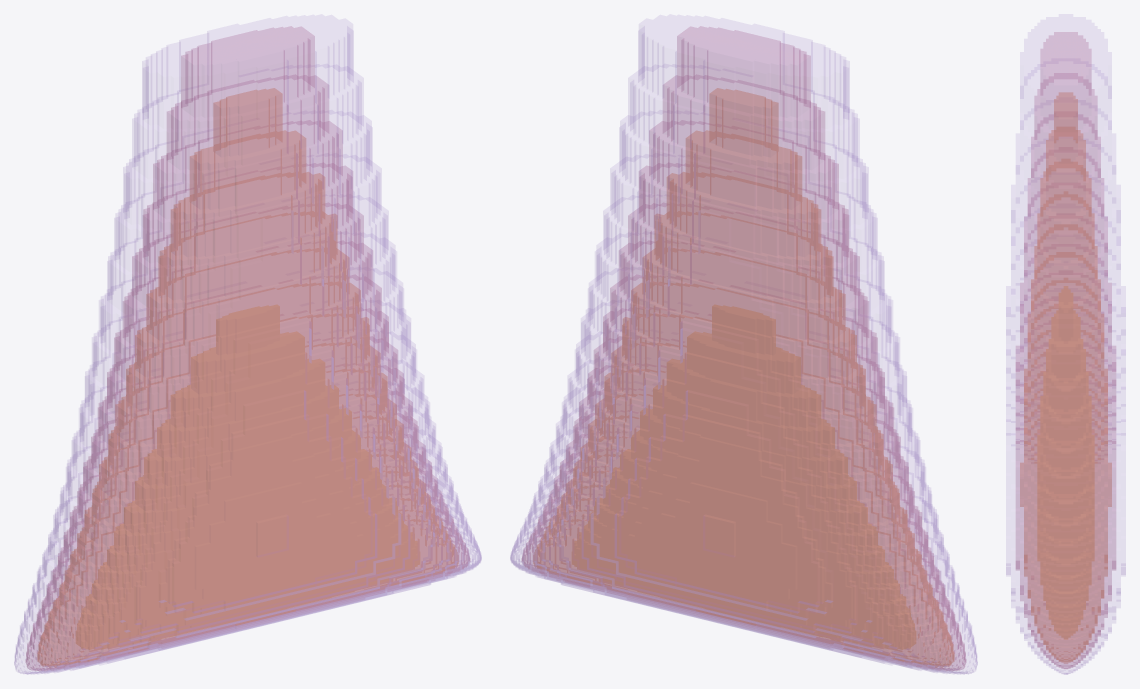
Rendered from phase-maxw.glb.
3 views of the same model, side by side, from view 1: azimuth 30°, elevation 25°; view 2: azimuth 150°, elevation 25°; view 3: azimuth 270°, elevation 25° (orthographic). The views are drawn at different scales.
Parts seen in each view (by area): view 1: Shell0, Shell1, Shell2, Shell3; view 2: Shell0, Shell1, Shell2, Shell3; view 3: Shell0, Shell1, Shell2, Shell3.
Part boxes in pixels (x1,y1,x2,y2): Shell0: [14, 15, 481, 674]; Shell1: [25, 26, 470, 671]; Shell2: [37, 88, 458, 667]; Shell3: [76, 305, 419, 649]; Shell0: [510, 15, 977, 674]; Shell1: [521, 26, 966, 671]; Shell2: [533, 88, 954, 667]; Shell3: [572, 305, 915, 649]; Shell0: [1006, 14, 1125, 674]; Shell1: [1016, 32, 1115, 668]; Shell2: [1020, 92, 1111, 663]; Shell3: [1038, 286, 1093, 638].
Bounding box in the file's own units: 1.07 × 1.28 × 0.2671.
